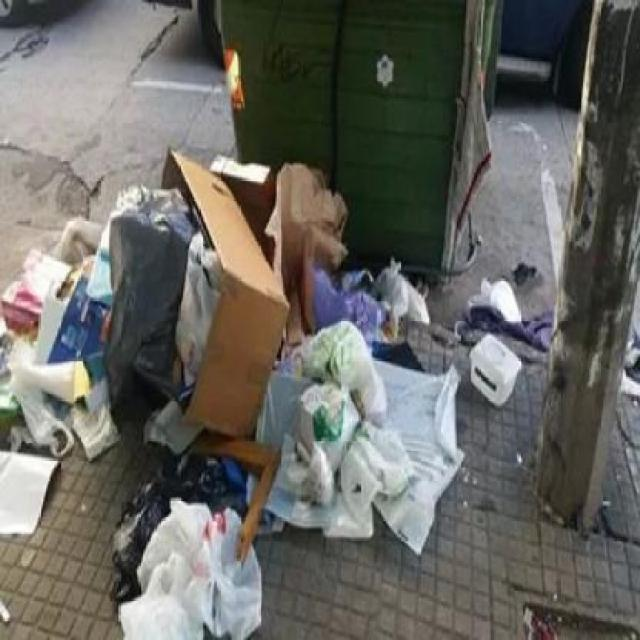garbage: (2, 186, 453, 633), (469, 265, 524, 408)
